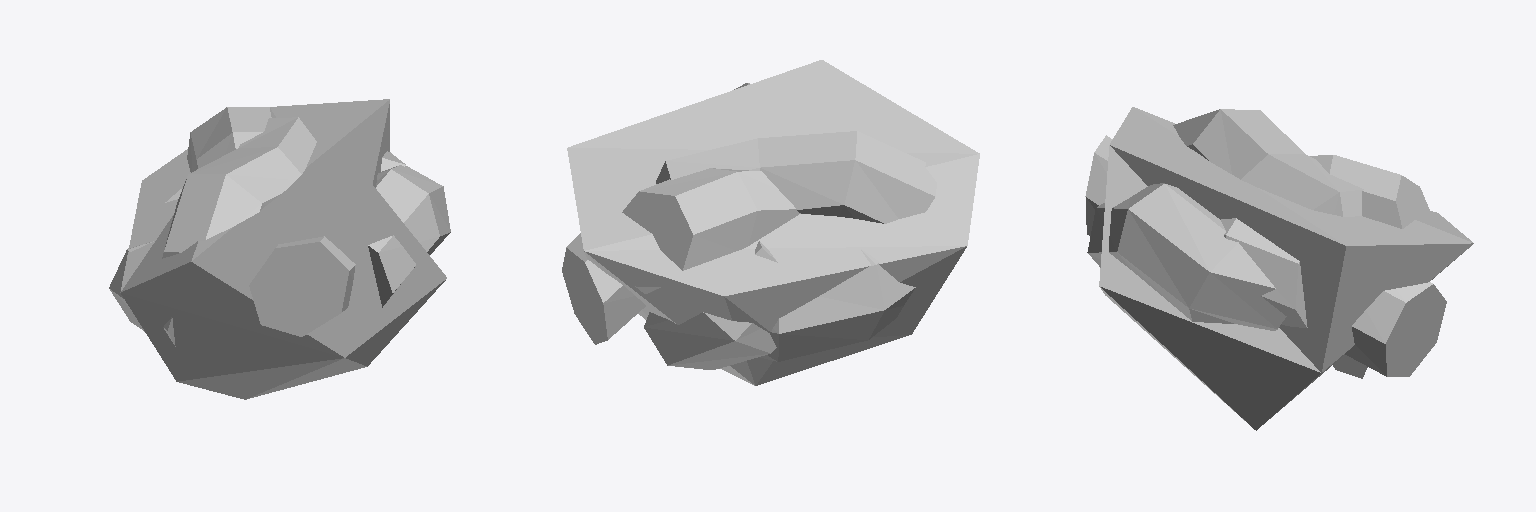
The model's file is RainbowBlue.obj.
3 renders of one model, left to right at view 1: azimuth 30°, elevation 25°; view 2: azimuth 150°, elevation 25°; view 3: azimuth 270°, elevation 25°, orthographic.
Visible parts, largest first — view 1: group[number redacted]; view 2: group[number redacted], group[number redacted]; view 3: group[number redacted], group[number redacted].
Boxes of the visible parts, box(x1,y1,x2,y2) form: group[number redacted]: box(109, 99, 450, 399); group[number redacted]: box(567, 60, 979, 385); group[number redacted]: box(562, 233, 645, 344); group[number redacted]: box(1085, 107, 1473, 430); group[number redacted]: box(1345, 282, 1446, 376).
Bounding box in the file's own units: 0.1088 × 0.0783 × 0.1093.